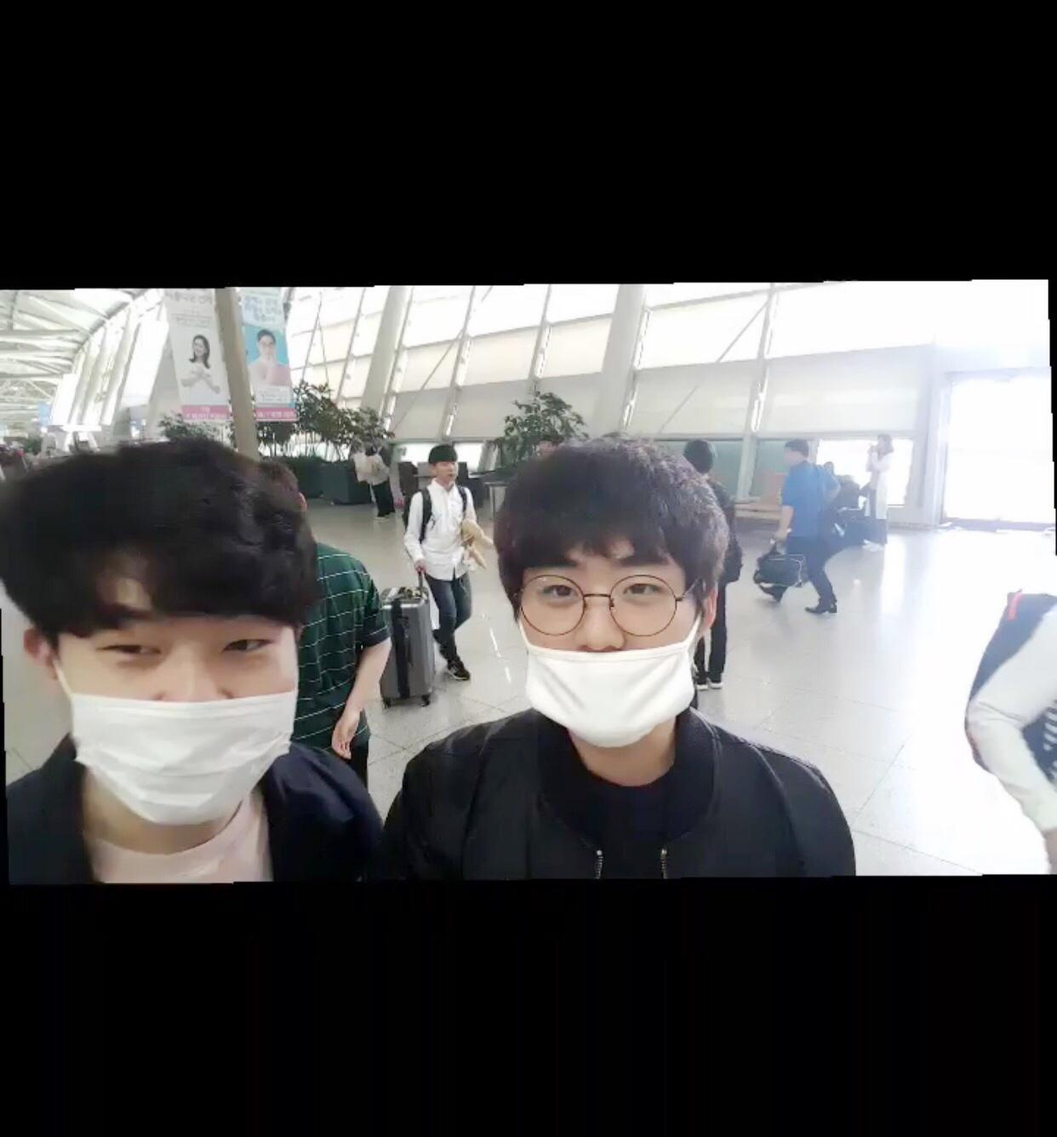NONE: (442, 464, 463, 483)
WRONG: (60, 582, 296, 818), (512, 542, 709, 739)
